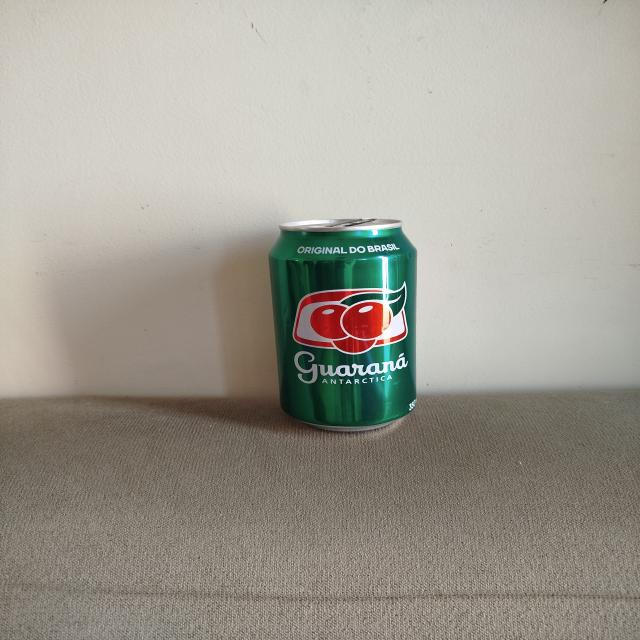Guarana: (268, 219, 416, 432)
